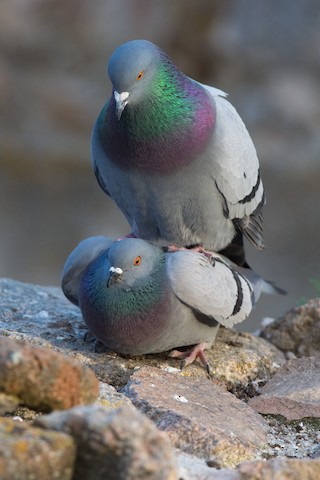pigeon: (88, 37, 276, 263), (59, 232, 261, 367)
